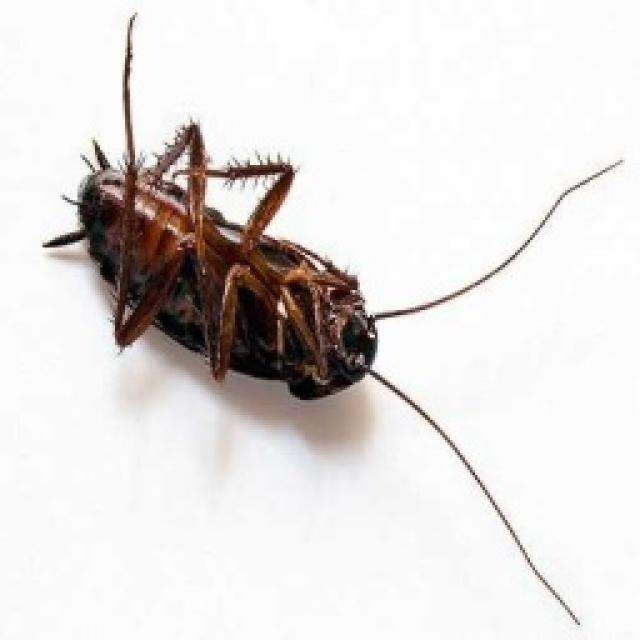cockroach: (41, 11, 429, 432)
